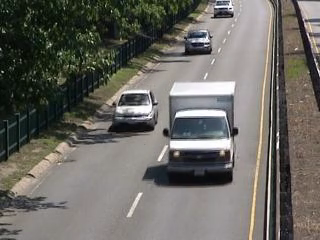car: (110, 88, 161, 132), (182, 26, 214, 56), (213, 1, 236, 19)
truck: (161, 78, 241, 187)
